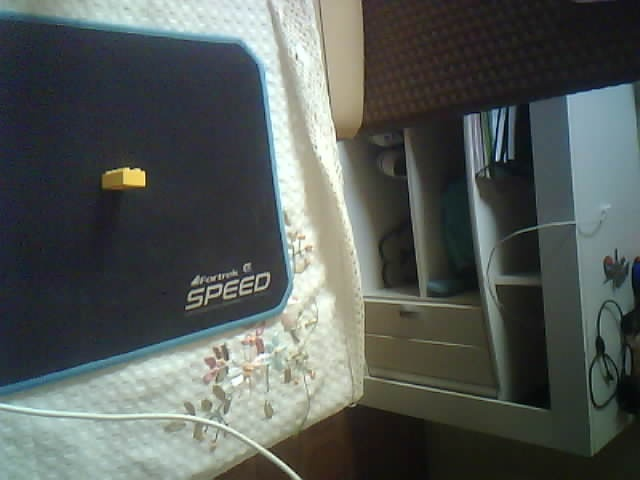lego: (100, 166, 145, 191)
